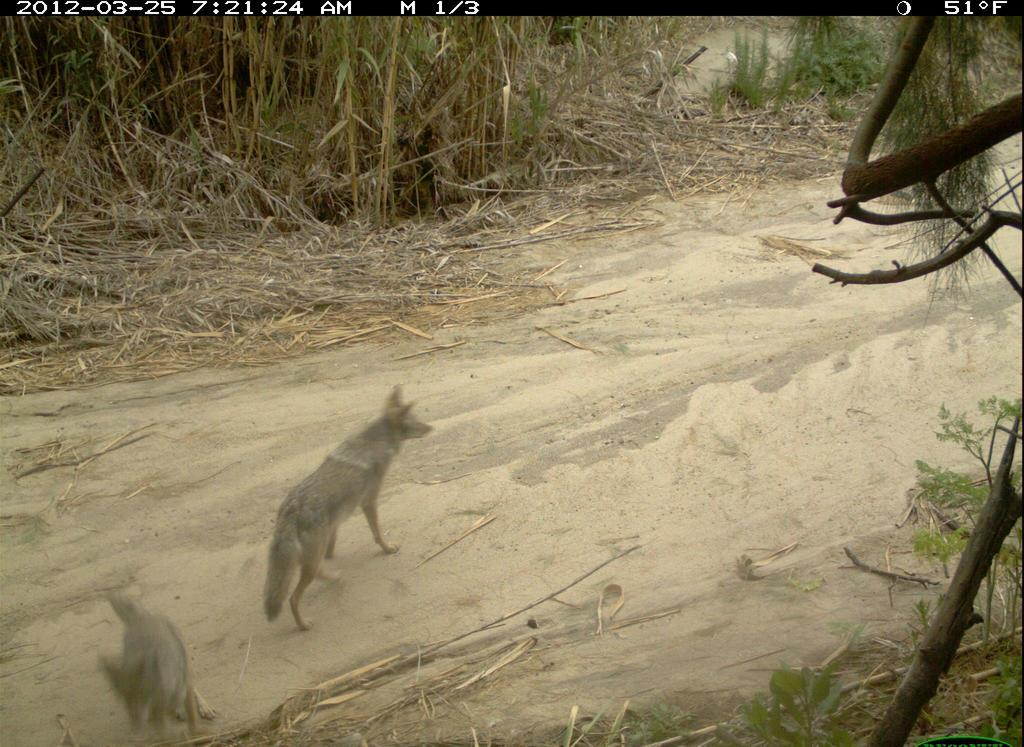coyote: (249, 370, 459, 633), (89, 584, 219, 744)
